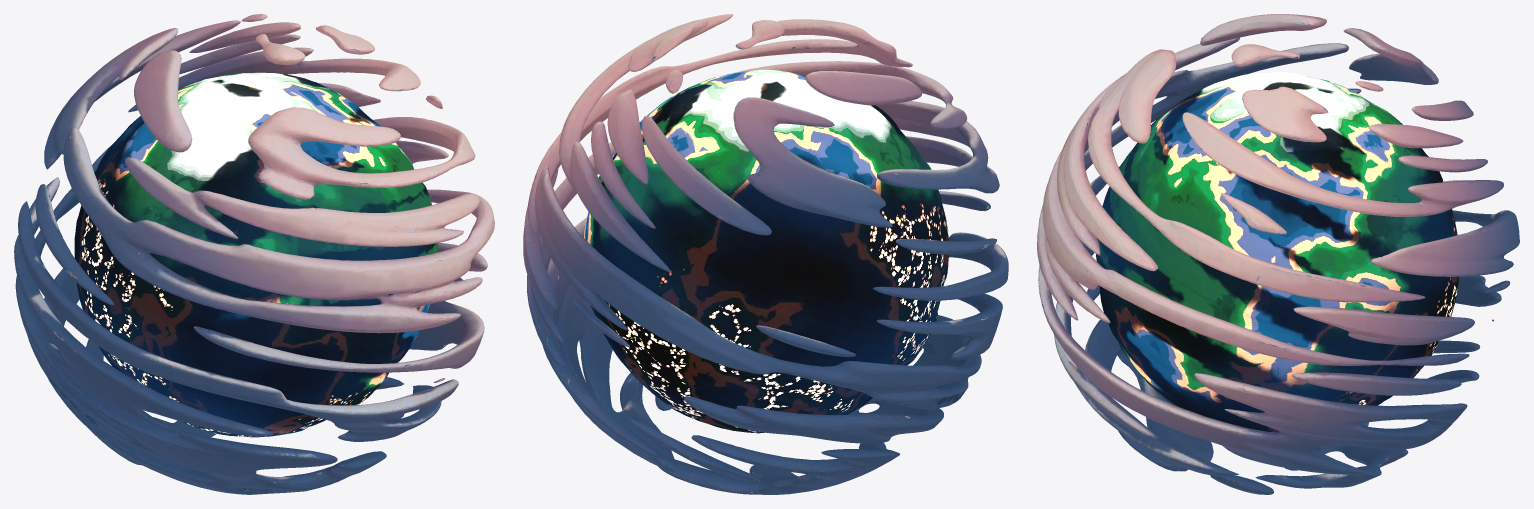
The picture shows the model from 3 angles, left to right: view 1: azimuth 30°, elevation 25°; view 2: azimuth 150°, elevation 25°; view 3: azimuth 270°, elevation 25°; orthographic projection.
Visible parts, largest first — view 1: Object_4, Object_6; view 2: Object_4, Object_6; view 3: Object_4, Object_6.
Boxes of the visible parts, x1,y1,x2,y2 form: Object_4: (14, 14, 494, 494); Object_6: (74, 72, 438, 437); Object_4: (523, 14, 1008, 494); Object_6: (583, 69, 948, 433); Object_4: (1037, 14, 1519, 494); Object_6: (1096, 72, 1458, 432).
Bounding box in the file's own units: 1.75 × 1.72 × 1.75.
Materials: 2 (2 with a texture image).
